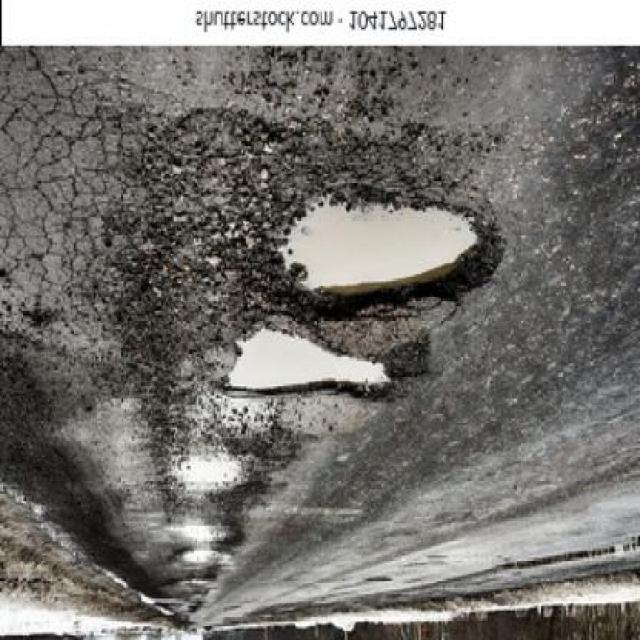Pothole: (279, 196, 502, 318), (228, 329, 390, 392)
